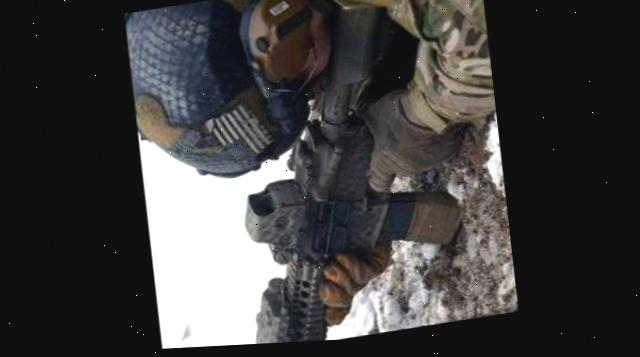rifle: (185, 0, 480, 349)
